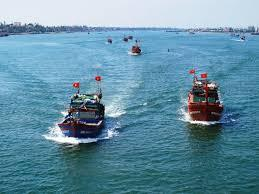Ship: (59, 77, 105, 138), (189, 78, 225, 122)
